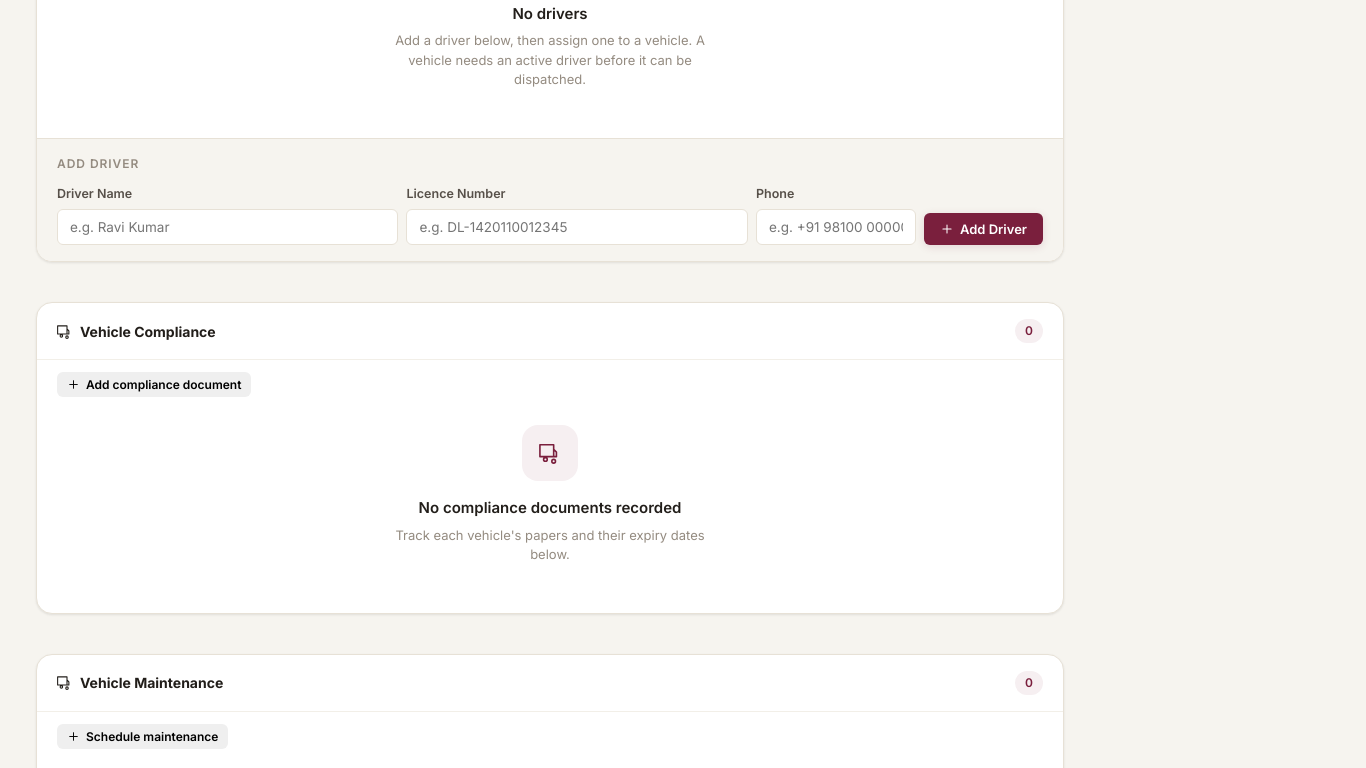
Test case: OrganizationDetail page › records a vehicle compliance document through the inline form
(page scrolled)
Click the button "Add compliance document" at coordinates (154, 385), box top-left (57, 372), bottom-right (251, 397)
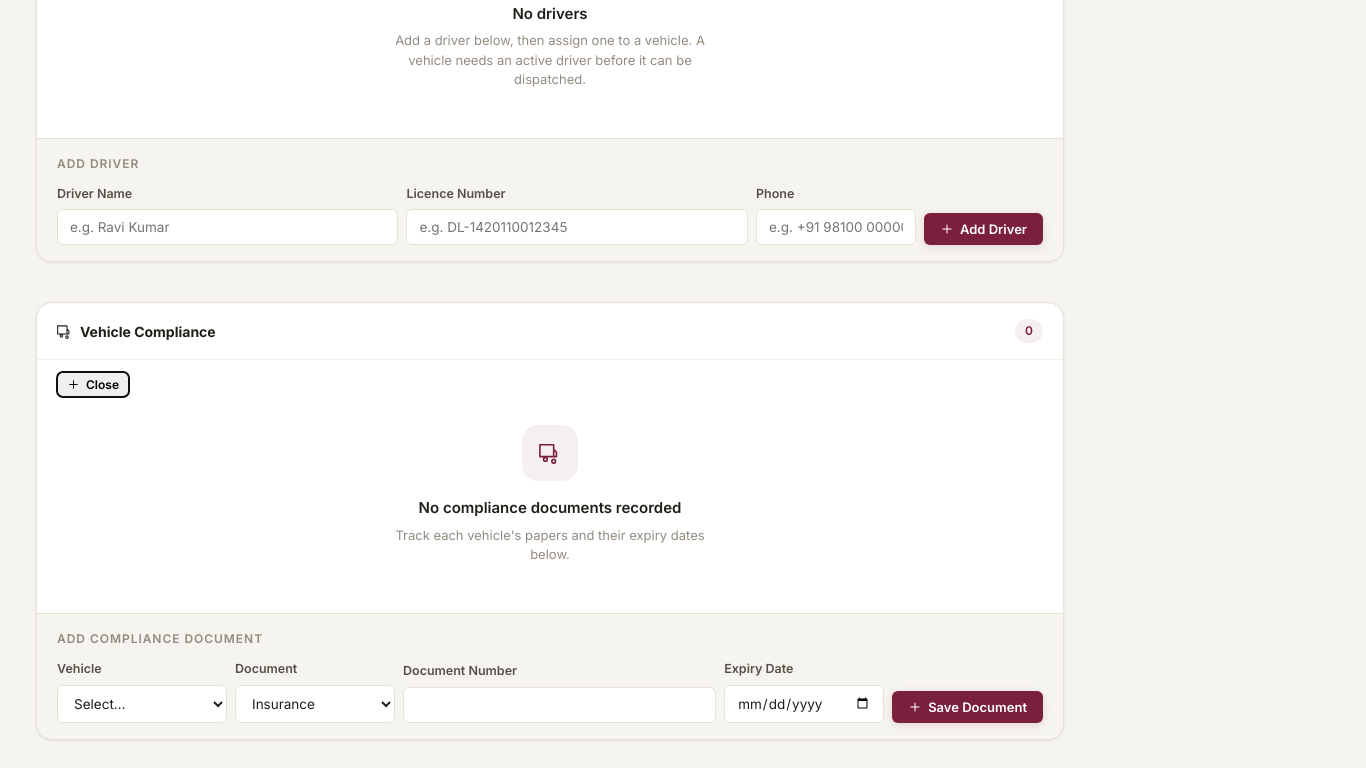
Select "MH01AB1234" in the dropdown labelled "Vehicle" at coordinates (142, 704), box top-left (57, 684), bottom-right (227, 722)
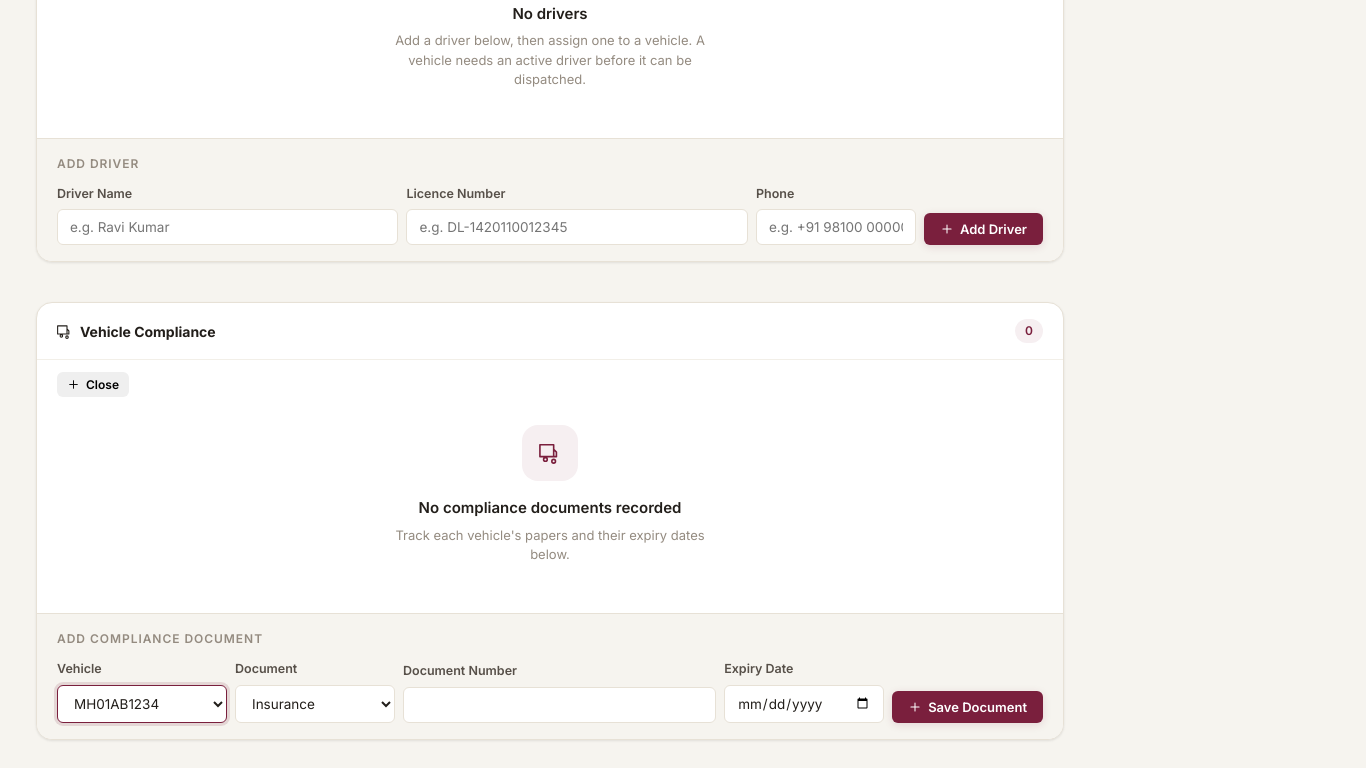
Select "Permit" in the dropdown labelled "Document" at coordinates (315, 704), box top-left (235, 684), bottom-right (395, 722)
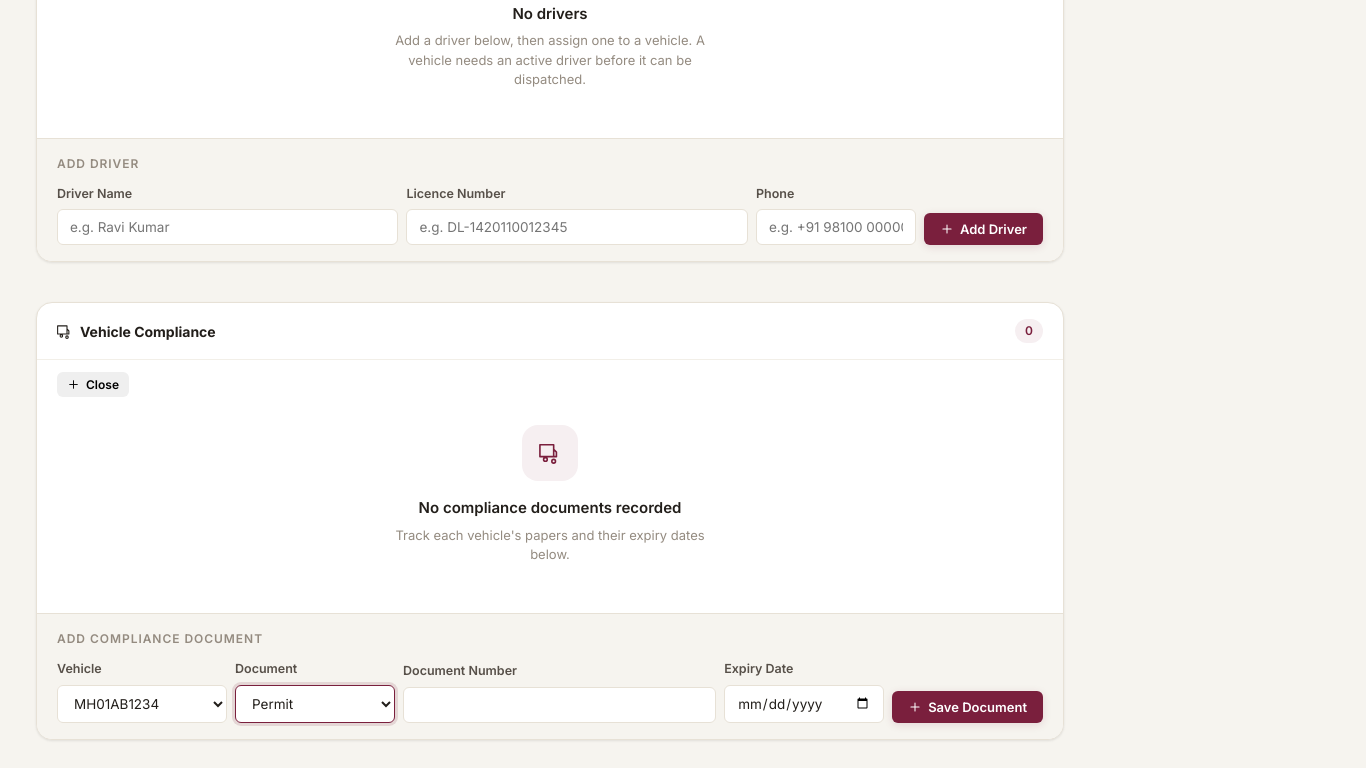
Type "PMT-2027-01" into the field labelled "Document Number" at coordinates (560, 704), box top-left (403, 686), bottom-right (716, 722)
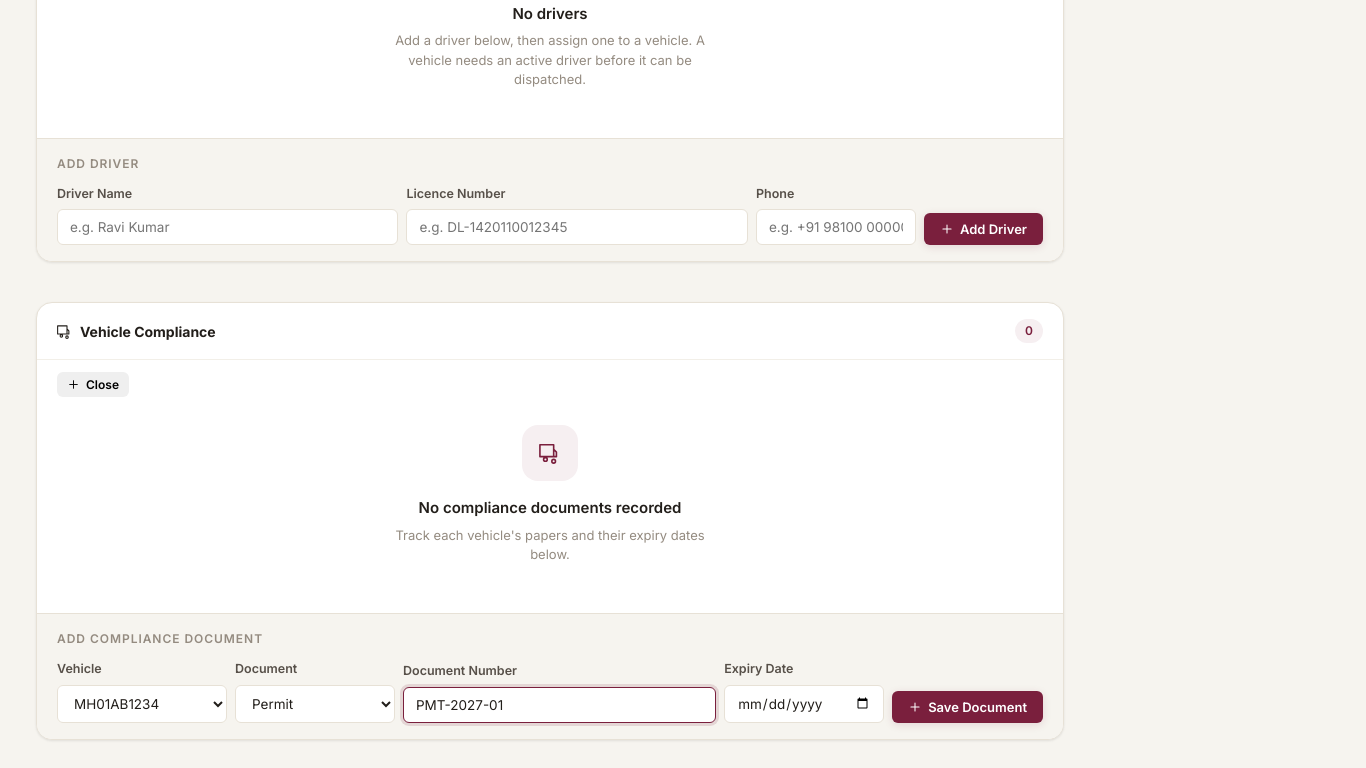
Type "2027-03-31" into the date field labelled "Expiry Date" at coordinates (804, 704), box top-left (724, 684), bottom-right (884, 722)
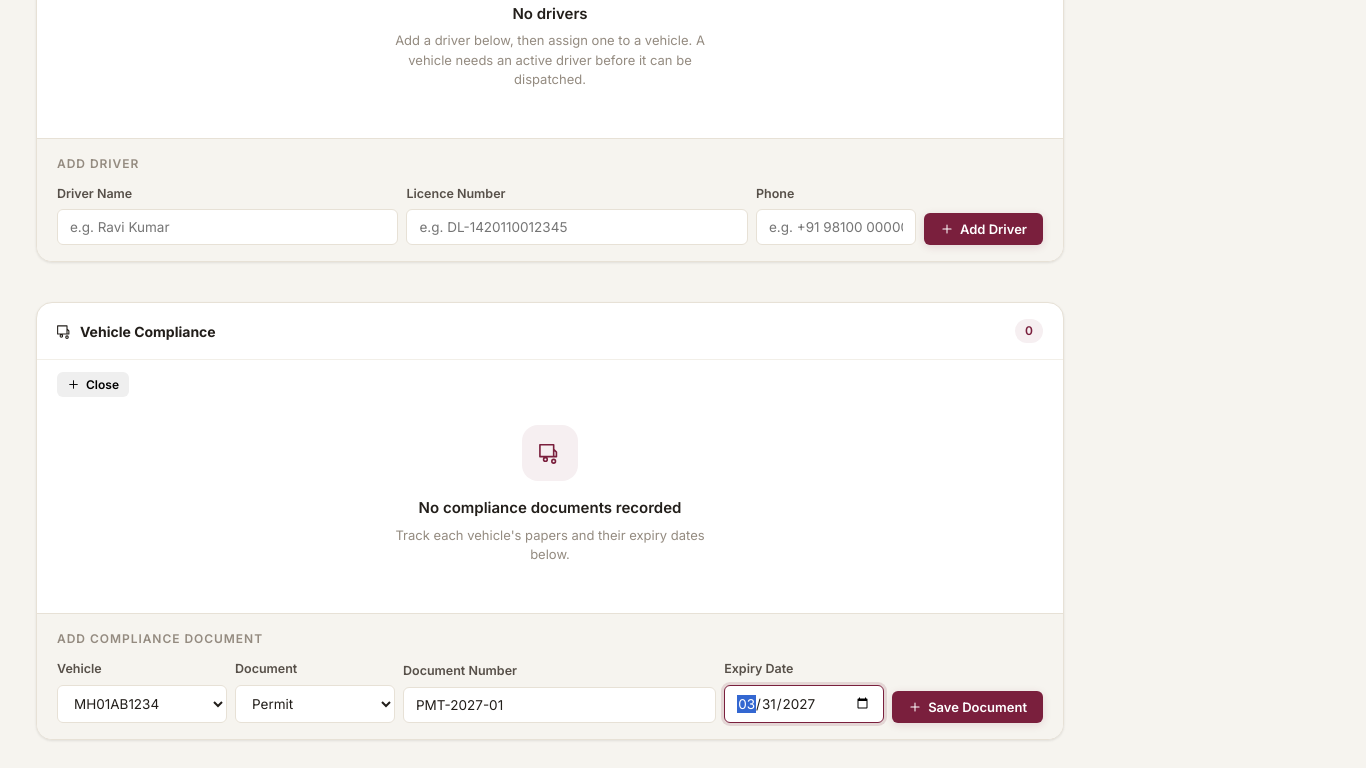
Click the button "Save Document" at coordinates (968, 706), box top-left (892, 690), bottom-right (1043, 722)
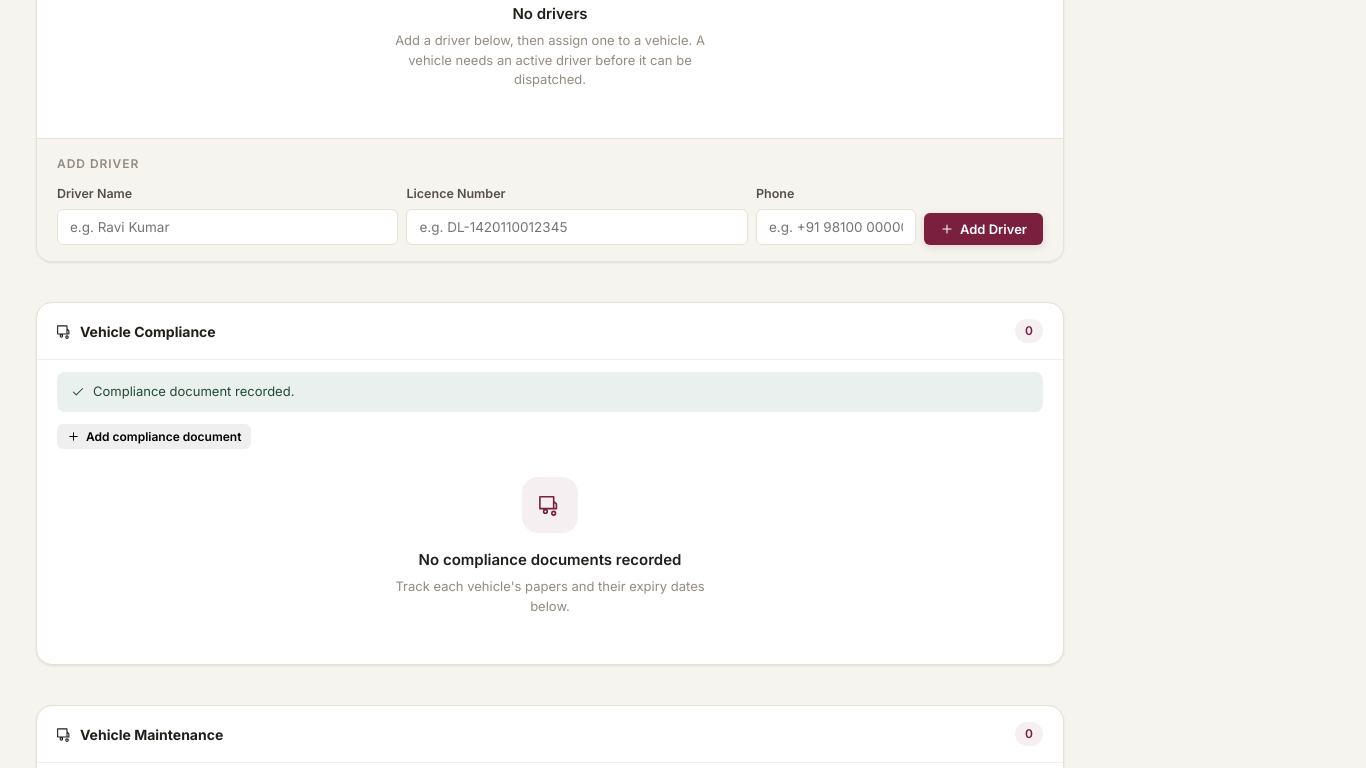
Check: the text "Compliance document recorded." is shown, box top-left (57, 372), bottom-right (1043, 412)
